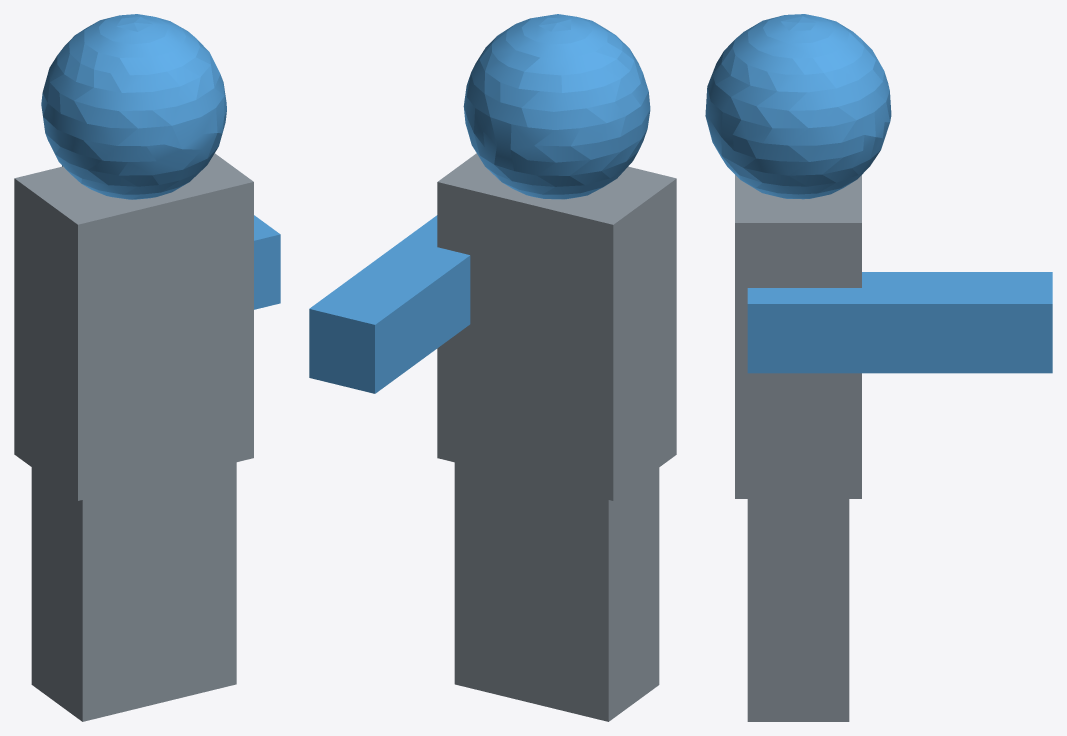
File: AL_SentinelRifleman_LOD1.glb
3 views of the same model, side by side, from view 1: azimuth 30°, elevation 25°; view 2: azimuth 150°, elevation 25°; view 3: azimuth 270°, elevation 25° (orthographic).
Parts seen in each view (by area): view 1: Head; view 2: Head; view 3: Head.
Boxes of the visible parts, <box> form: Head: <box>14,14,280,721</box>; Head: <box>309,14,676,721</box>; Head: <box>705,14,1052,721</box>.
Size of the model in its own units: 57 by 172 by 81.99.
